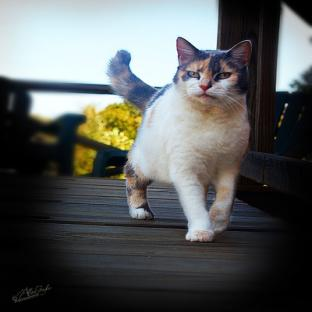Animal: (108, 37, 251, 241)
